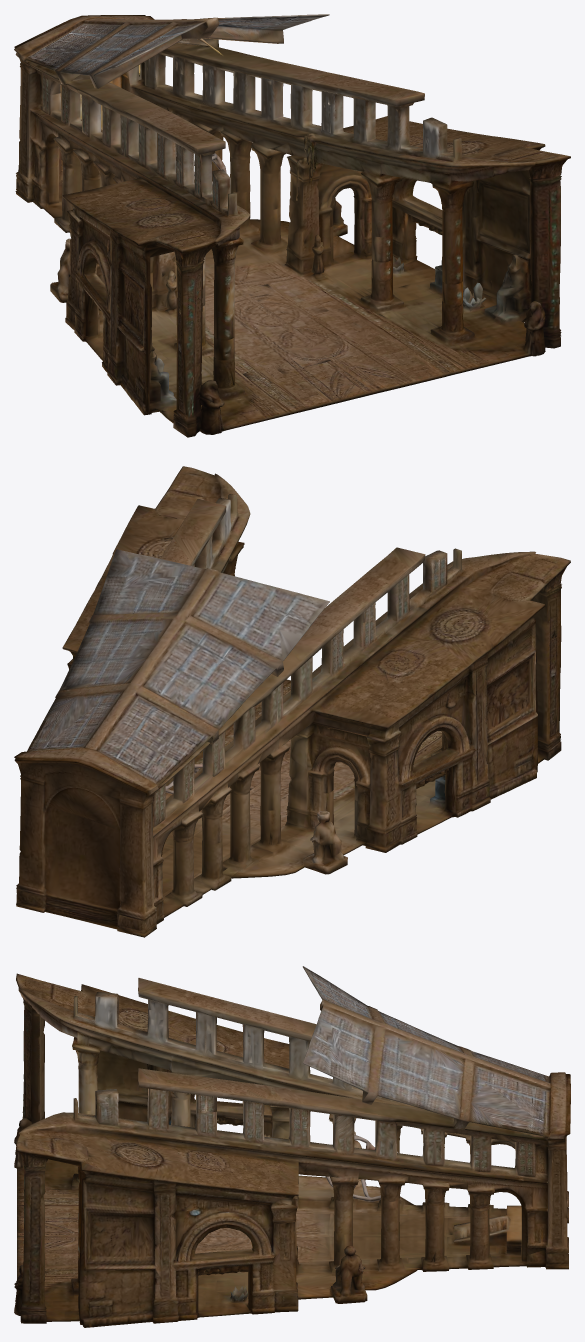
The model's file is auros_temple_interior.fbx.
3 views of the same model, one above another, from view 1: azimuth 30°, elevation 25°; view 2: azimuth 150°, elevation 25°; view 3: azimuth 270°, elevation 25° (orthographic). The views are drawn at different scales.
Parts seen in each view (by area): view 1: tripo_node_ff604a62; view 2: tripo_node_ff604a62; view 3: tripo_node_ff604a62.
Part boxes in pixels (left/top/right/bottom): tripo_node_ff604a62: left=14, top=14, right=570, bottom=437; tripo_node_ff604a62: left=14, top=466, right=570, bottom=937; tripo_node_ff604a62: left=14, top=966, right=570, bottom=1327.
Size of the model in its own units: 77.06 by 98.12 by 46.39.
1 material, 1 textured.
